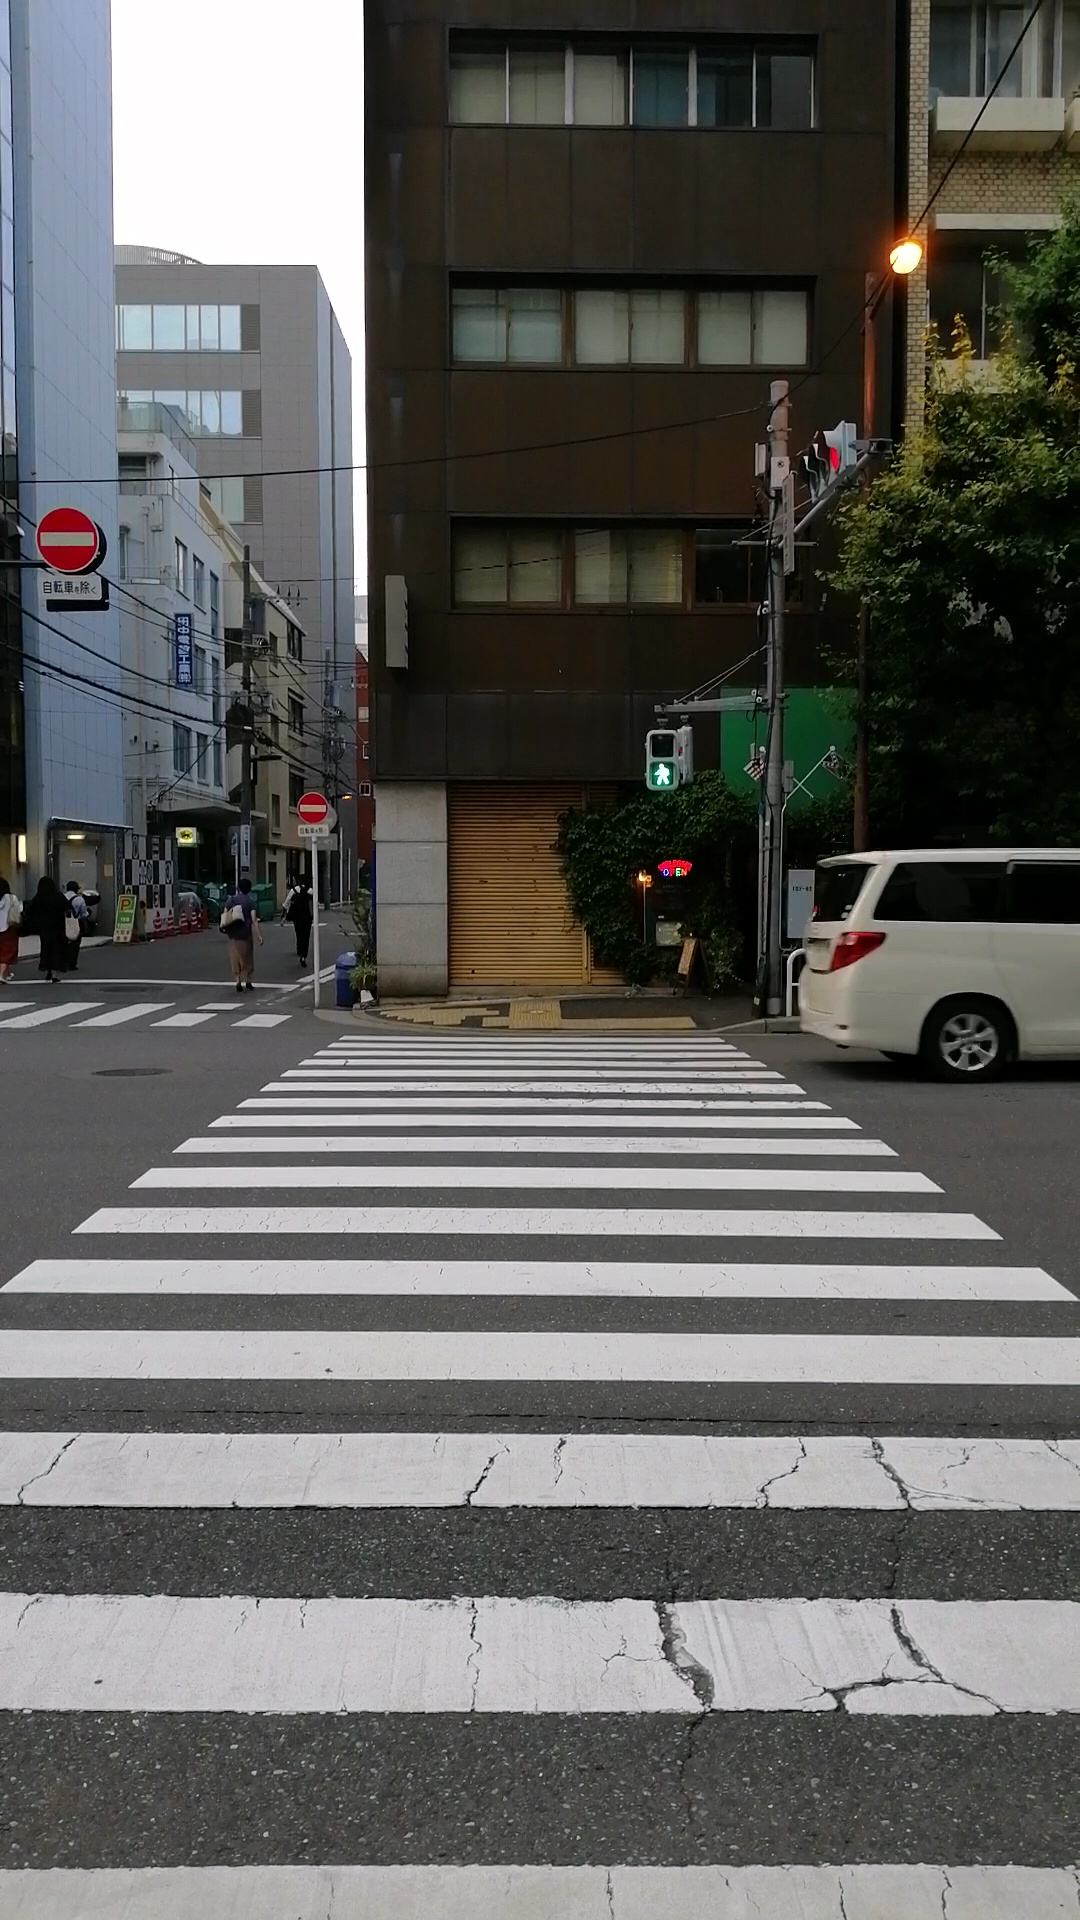green: (645, 729, 679, 790)
